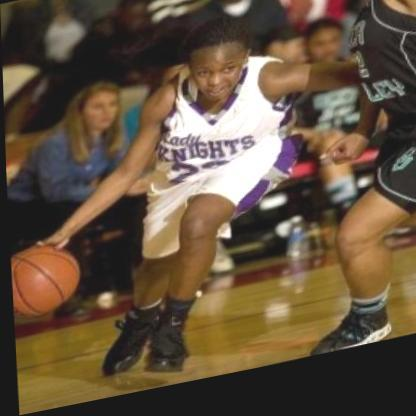basketball: (8, 233, 83, 325)
